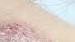plaque psoriasis: (0, 21, 63, 42)
